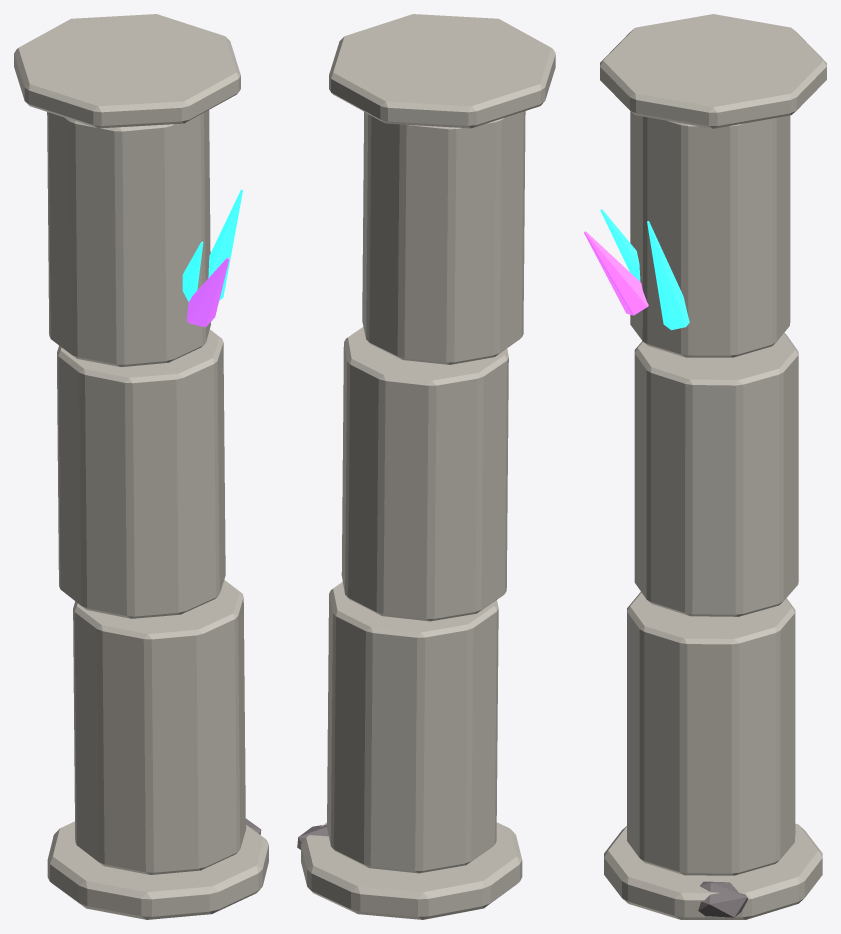
The model's file is runtime.glb.
3 views of the same model, side by side, from view 1: azimuth 30°, elevation 25°; view 2: azimuth 150°, elevation 25°; view 3: azimuth 270°, elevation 25° (orthographic). The views are drawn at different scales.
Visible parts, largest first — view 1: crystal-ruins-damaged-column-v03_shaft_00, crystal-ruins-damaged-column-v03_shaft_01, crystal-ruins-damaged-column-v03_shaft_02, crystal-ruins-damaged-column-v03_capital, crystal-ruins-damaged-column-v03_base, crystal-ruins-damaged-column-v03_crystal_04_nocol, crystal-ruins-damaged-column-v03_crystal_00_nocol, crystal-ruins-damaged-column-v03_crystal_03_nocol; view 2: crystal-ruins-damaged-column-v03_shaft_00, crystal-ruins-damaged-column-v03_shaft_01, crystal-ruins-damaged-column-v03_shaft_02, crystal-ruins-damaged-column-v03_capital, crystal-ruins-damaged-column-v03_base; view 3: crystal-ruins-damaged-column-v03_shaft_00, crystal-ruins-damaged-column-v03_shaft_01, crystal-ruins-damaged-column-v03_shaft_02, crystal-ruins-damaged-column-v03_capital, crystal-ruins-damaged-column-v03_base, crystal-ruins-damaged-column-v03_crystal_00_nocol, crystal-ruins-damaged-column-v03_crystal_04_nocol, crystal-ruins-damaged-column-v03_deposit_00_nocol, crystal-ruins-damaged-column-v03_crystal_03_nocol.
Part boxes in pixels (x1=…): crystal-ruins-damaged-column-v03_shaft_00: x1=73, y1=580, x2=245, y2=874; crystal-ruins-damaged-column-v03_shaft_01: x1=57, y1=329, x2=225, y2=618; crystal-ruins-damaged-column-v03_shaft_02: x1=47, y1=110, x2=210, y2=366; crystal-ruins-damaged-column-v03_capital: x1=14, y1=14, x2=240, y2=128; crystal-ruins-damaged-column-v03_base: x1=47, y1=821, x2=268, y2=919; crystal-ruins-damaged-column-v03_crystal_04_nocol: x1=187, y1=257, x2=229, y2=327; crystal-ruins-damaged-column-v03_crystal_00_nocol: x1=208, y1=189, x2=242, y2=300; crystal-ruins-damaged-column-v03_crystal_03_nocol: x1=182, y1=241, x2=203, y2=301; crystal-ruins-damaged-column-v03_shaft_00: x1=327, y1=582, x2=498, y2=873; crystal-ruins-damaged-column-v03_shaft_01: x1=341, y1=327, x2=508, y2=621; crystal-ruins-damaged-column-v03_shaft_02: x1=362, y1=111, x2=525, y2=364; crystal-ruins-damaged-column-v03_capital: x1=329, y1=14, x2=555, y2=128; crystal-ruins-damaged-column-v03_base: x1=301, y1=822, x2=522, y2=919; crystal-ruins-damaged-column-v03_shaft_00: x1=627, y1=592, x2=795, y2=875; crystal-ruins-damaged-column-v03_shaft_01: x1=634, y1=333, x2=798, y2=616; crystal-ruins-damaged-column-v03_shaft_02: x1=630, y1=111, x2=790, y2=357; crystal-ruins-damaged-column-v03_capital: x1=600, y1=14, x2=826, y2=128; crystal-ruins-damaged-column-v03_base: x1=604, y1=823, x2=822, y2=919; crystal-ruins-damaged-column-v03_crystal_00_nocol: x1=647, y1=221, x2=689, y2=330; crystal-ruins-damaged-column-v03_crystal_04_nocol: x1=584, y1=231, x2=648, y2=315; crystal-ruins-damaged-column-v03_deposit_00_nocol: x1=698, y1=881, x2=747, y2=917; crystal-ruins-damaged-column-v03_crystal_03_nocol: x1=600, y1=209, x2=640, y2=281.
Size of the model in its own units: 2.89 by 9.68 by 2.65.
